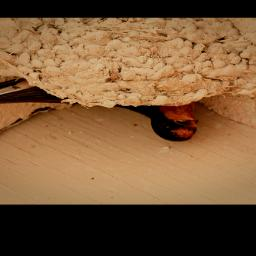Swallow: (0, 71, 201, 143)
